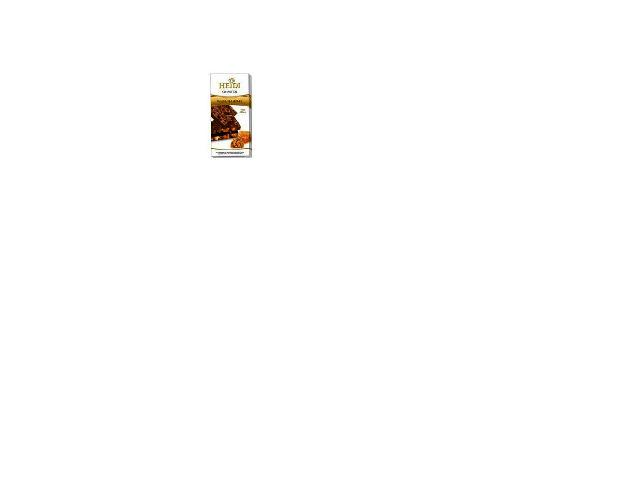chocolate: (209, 70, 253, 160)
